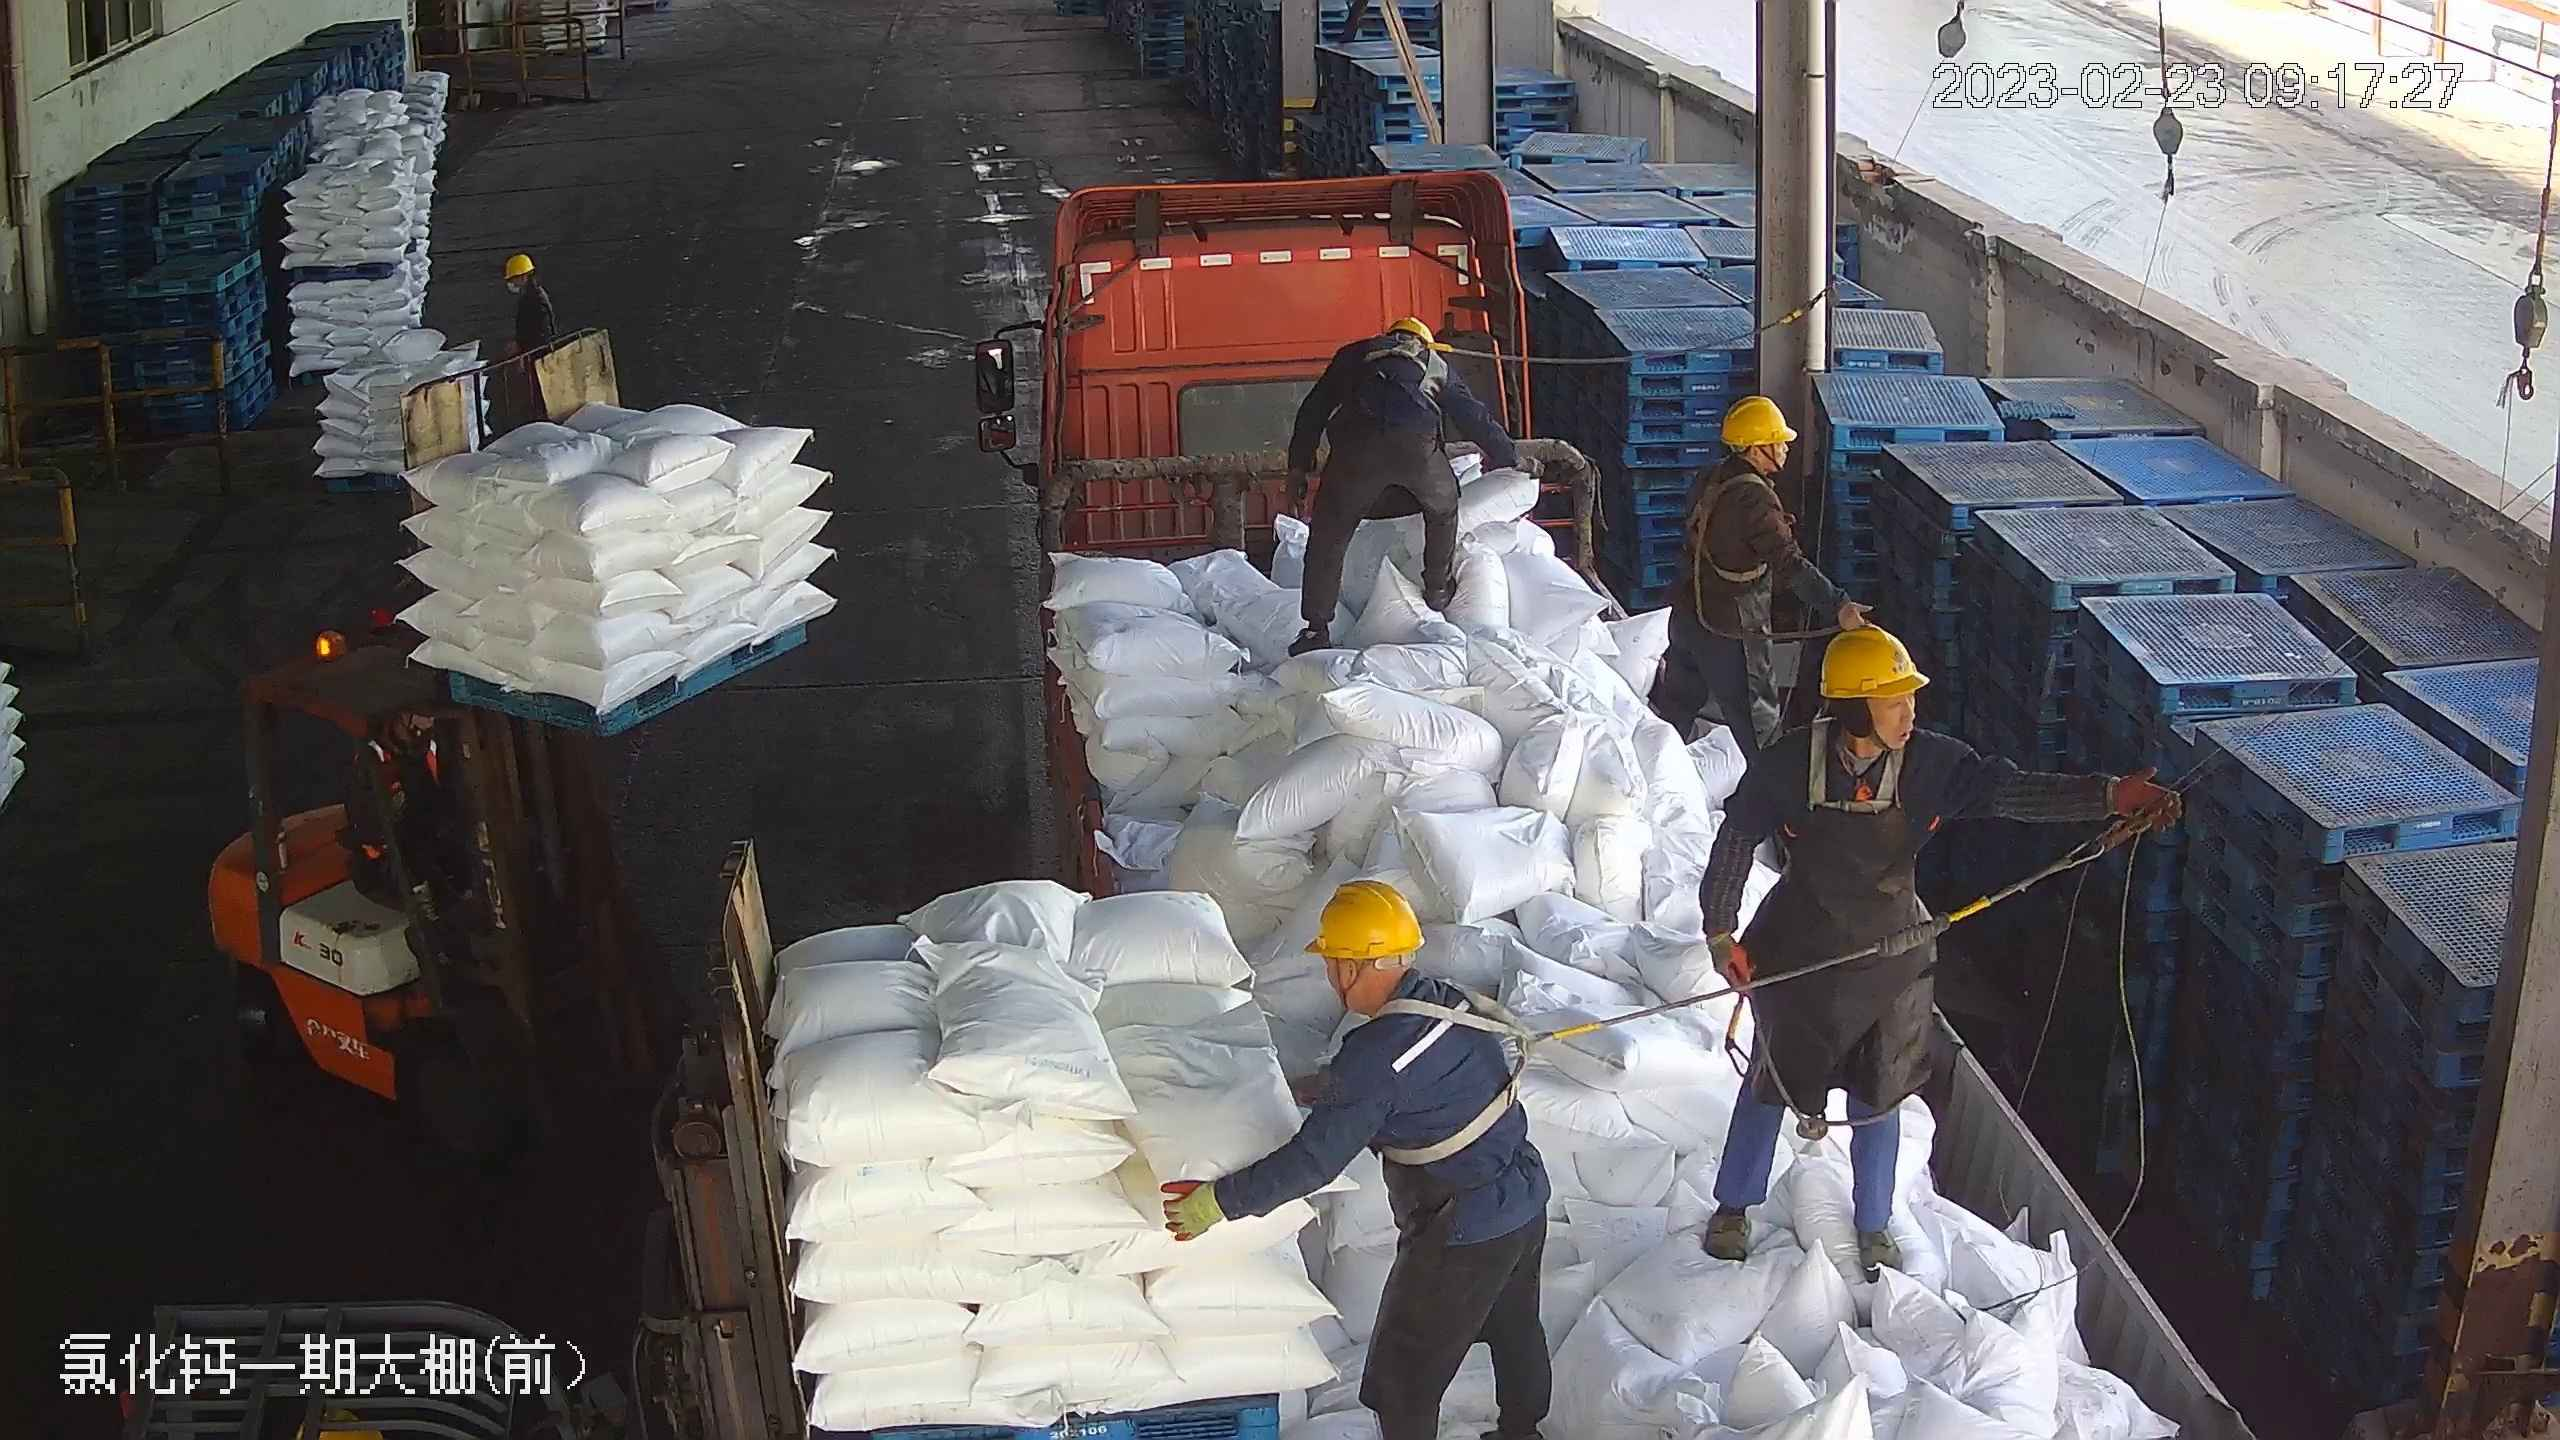belt: (1372, 991, 1599, 1168), (1689, 469, 1789, 582), (1811, 717, 1920, 814), (1361, 331, 1443, 394)
head: (1287, 882, 1497, 1113), (1762, 622, 1962, 826), (1689, 390, 1805, 532), (1349, 314, 1452, 394), (496, 250, 565, 324)
helmet: (1300, 877, 1427, 959), (1815, 619, 1930, 700), (1714, 390, 1796, 449), (501, 251, 534, 276)
people: (1695, 616, 2169, 1284), (1168, 871, 1552, 1440), (1280, 316, 1537, 657), (1653, 390, 1844, 762)
truck: (972, 161, 2267, 1434)
